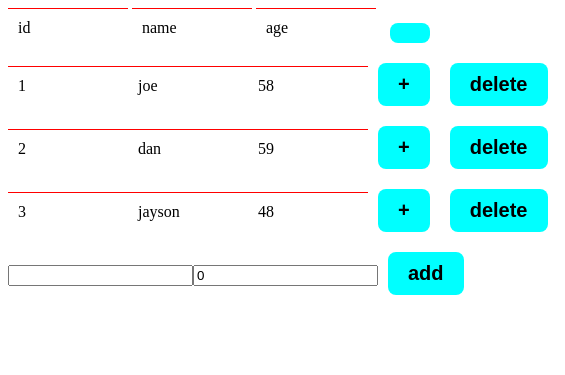
Scenario: add a new name to the list of names
Type "tom" into the field with test id "name-input". click: (100,276)
box: [8,265,193,286]
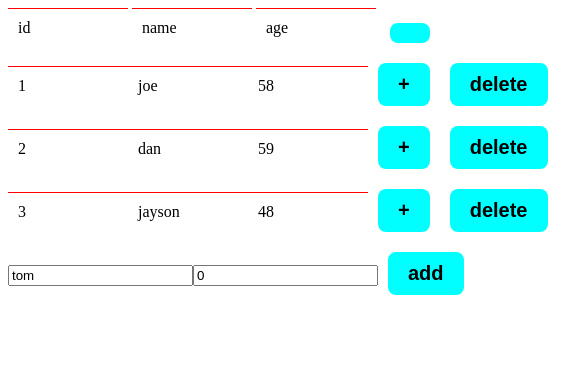
Replace the text in the field with test id "age-input" with "25". click: (286,276)
box: [193,265,378,286]
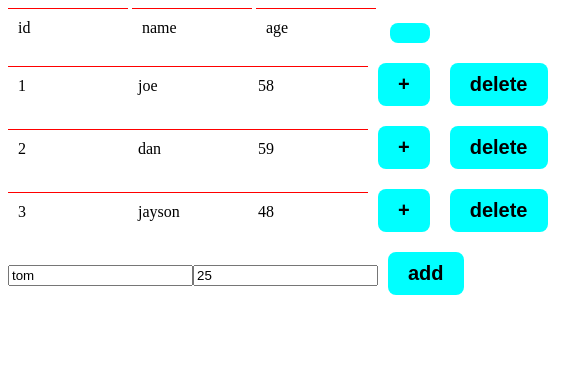
Click the button with test id "add-person". click: (426,274)
box: [388,252,464,295]
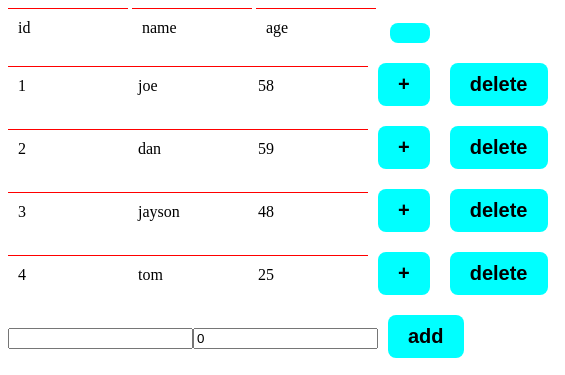
Result: the text "tom" is shown at [128,255,248,294]
Result: the text with test id "name-4" reads "tom" at [138,266,163,283]
